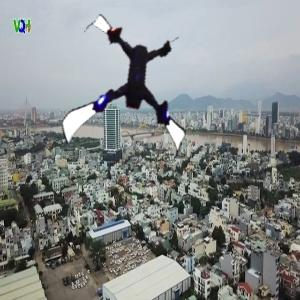drone: (66, 25, 206, 165)
